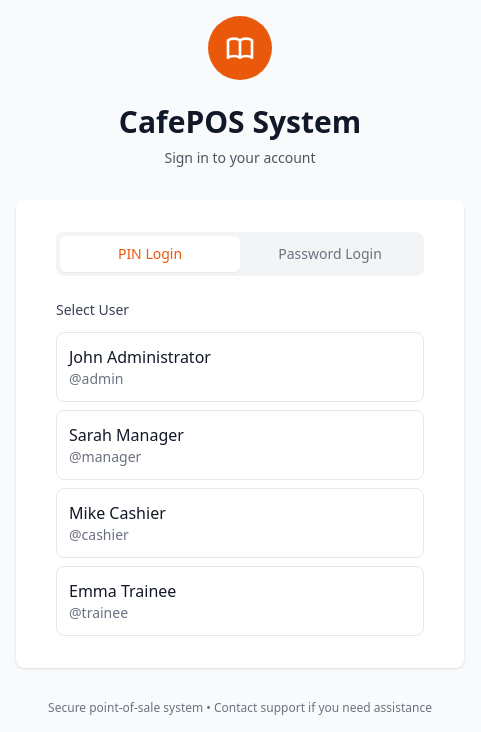
Test case: AuthenticationForm › PIN Login Functionality › should allow changing user after selection
Click the button "John Administrator @admin" at point(140, 357), box [56, 332, 424, 402]
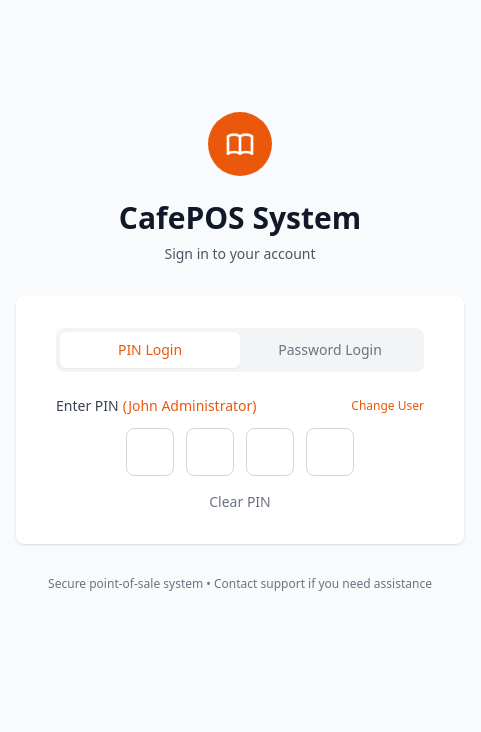
Click the button "Change User" at point(388, 406), box [351, 398, 424, 414]
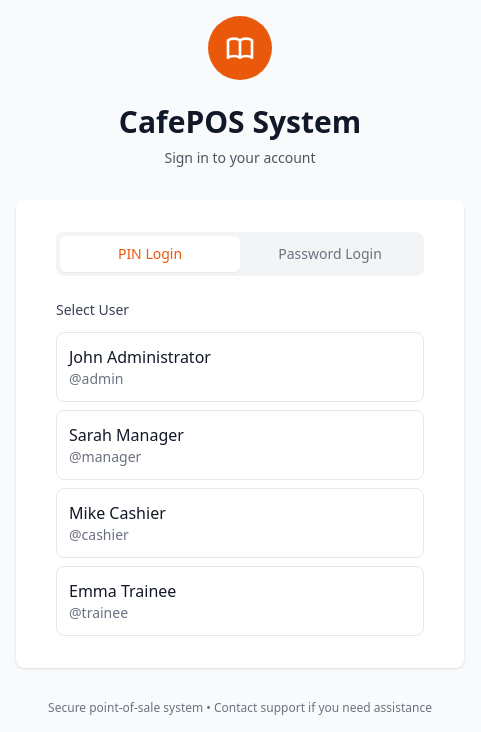
Now the text "Select User" is shown, box [56, 300, 129, 319]
Now the text "Enter PIN" is gone
